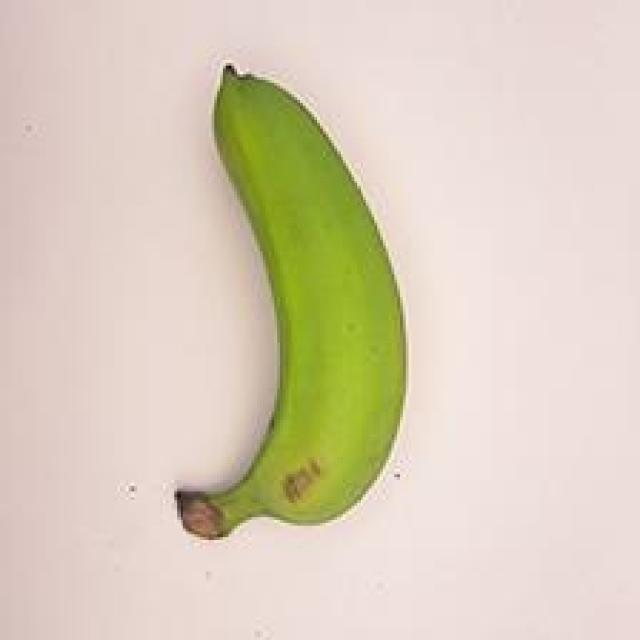unripe: (118, 42, 453, 588)
